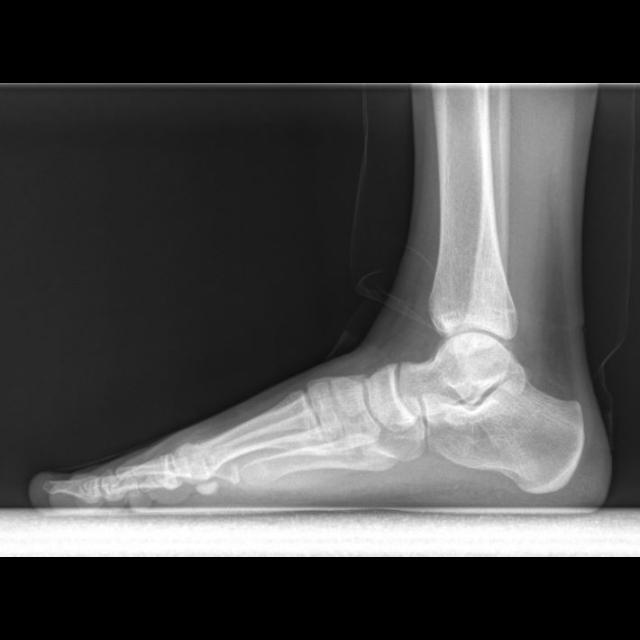a: (417, 371, 583, 497)
b: (365, 364, 415, 434)
c: (175, 394, 321, 483)
